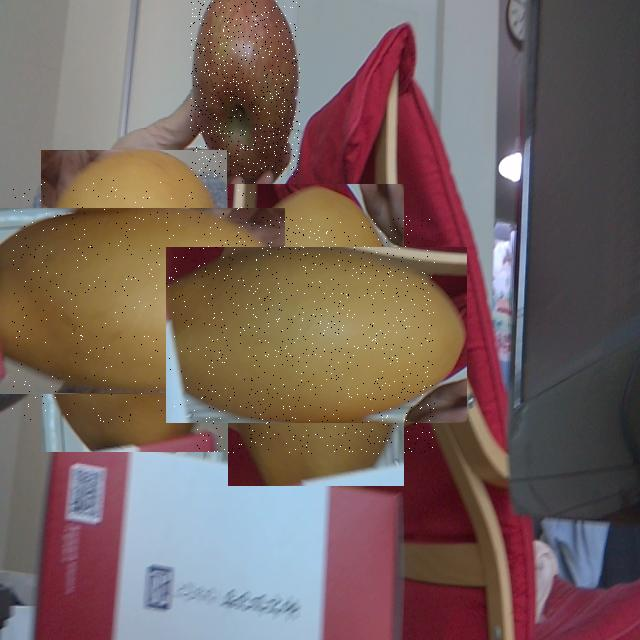apple: (190, 1, 300, 177)
pear: (12, 179, 256, 423), (197, 216, 435, 454)
